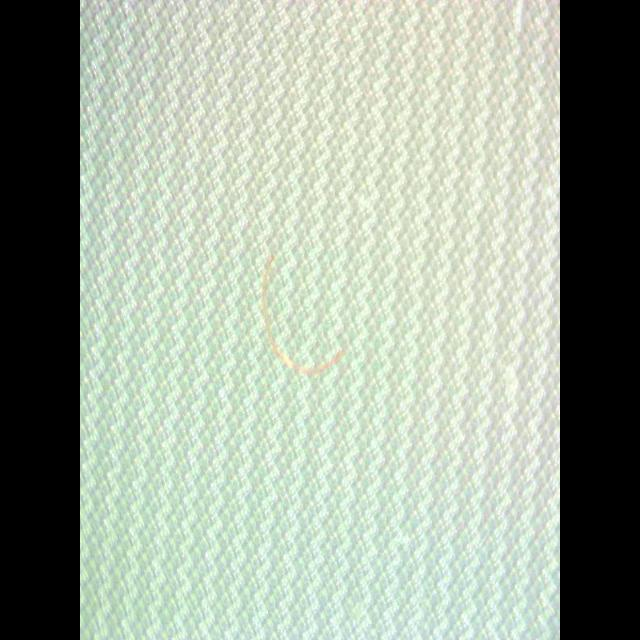Fibre: (258, 250, 348, 386)
